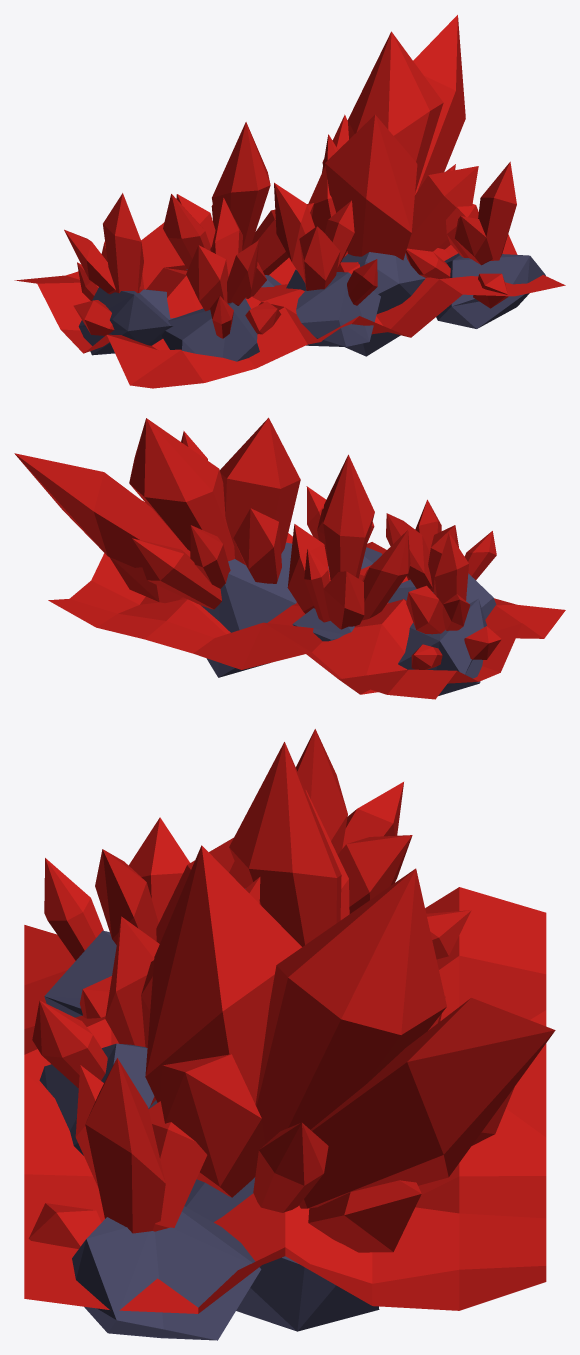
Rendered from Crystal Inside Chest.fbx.
3 views of the same model, one above another, from view 1: azimuth 30°, elevation 25°; view 2: azimuth 150°, elevation 25°; view 3: azimuth 270°, elevation 25° (orthographic). The views are drawn at different scales.
Parts seen in each view (by area): view 1: Gold Inside002; view 2: Gold Inside002; view 3: Gold Inside002.
Part boxes in pixels (x1,y1,x2,y2): Gold Inside002: (14,15,565,388); Gold Inside002: (14,417,565,699); Gold Inside002: (24,729,555,1340).
Size of the model in its own units: 63.69 by 34.95 by 37.17.
